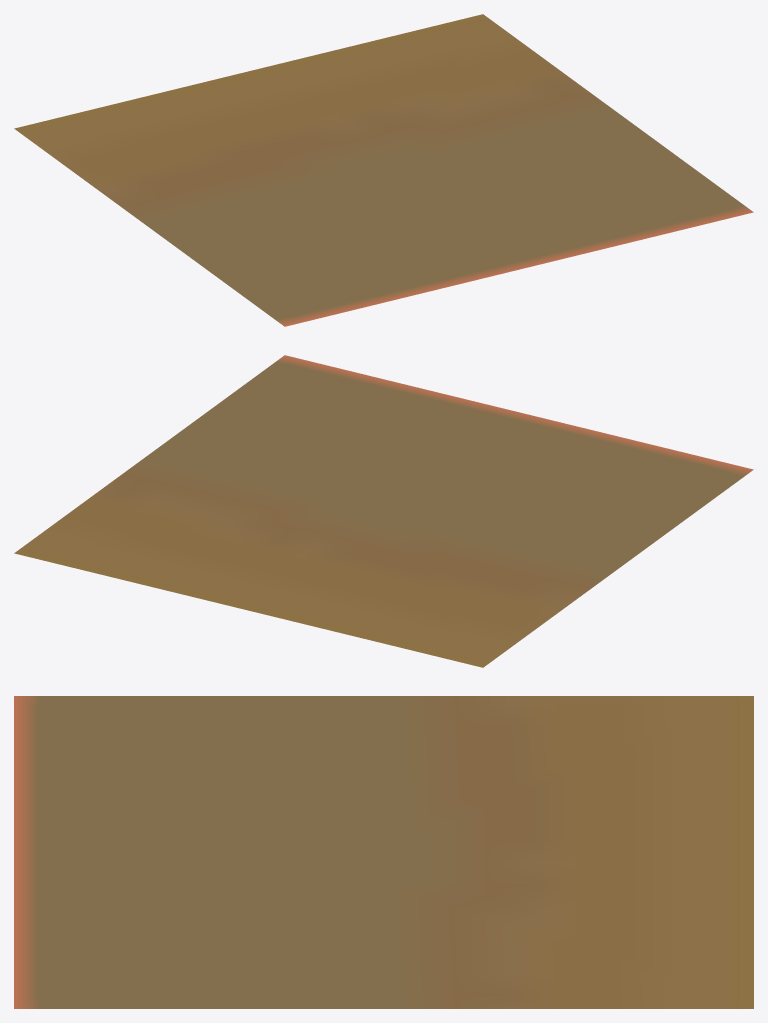
The model's file is Floor #583396.fbx.
3 renders of one model, top to bottom at view 1: azimuth 30°, elevation 25°; view 2: azimuth 150°, elevation 25°; view 3: azimuth 270°, elevation 25°, orthographic. The views are drawn at different scales.
Visible parts, largest first — view 1: Floor; view 2: Floor; view 3: Floor.
Part boxes in pixels (x1,y1,x2,y2): Floor: (14,14,753,326); Floor: (14,355,753,667); Floor: (14,696,753,1008).
Bounding box in the file's own units: 2200 × 9.62e-05 × 2200.
Materials: 1 (1 with a texture image).
